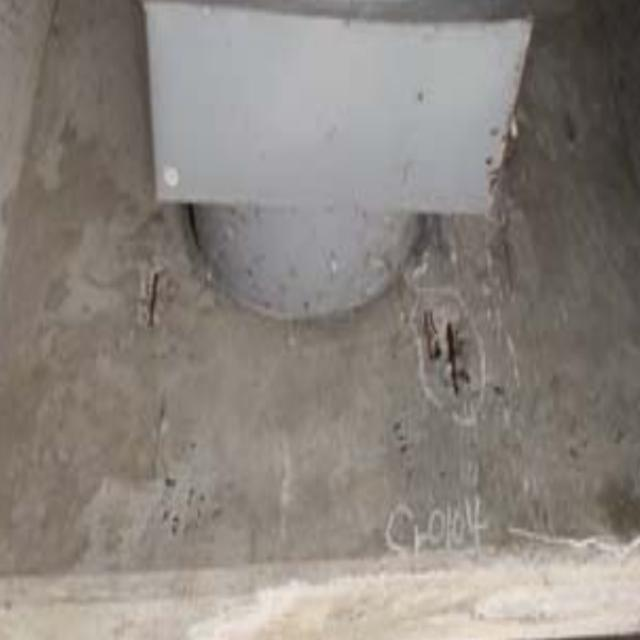spalling: (413, 278, 500, 422), (115, 254, 178, 334)
